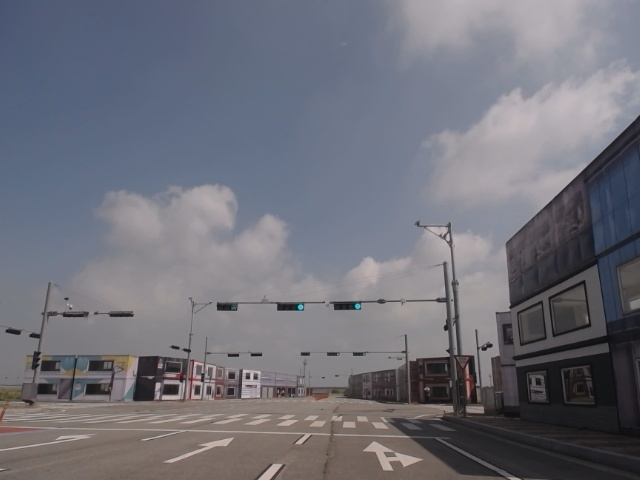straight_green_4: (277, 302, 305, 310), (334, 303, 361, 311)
